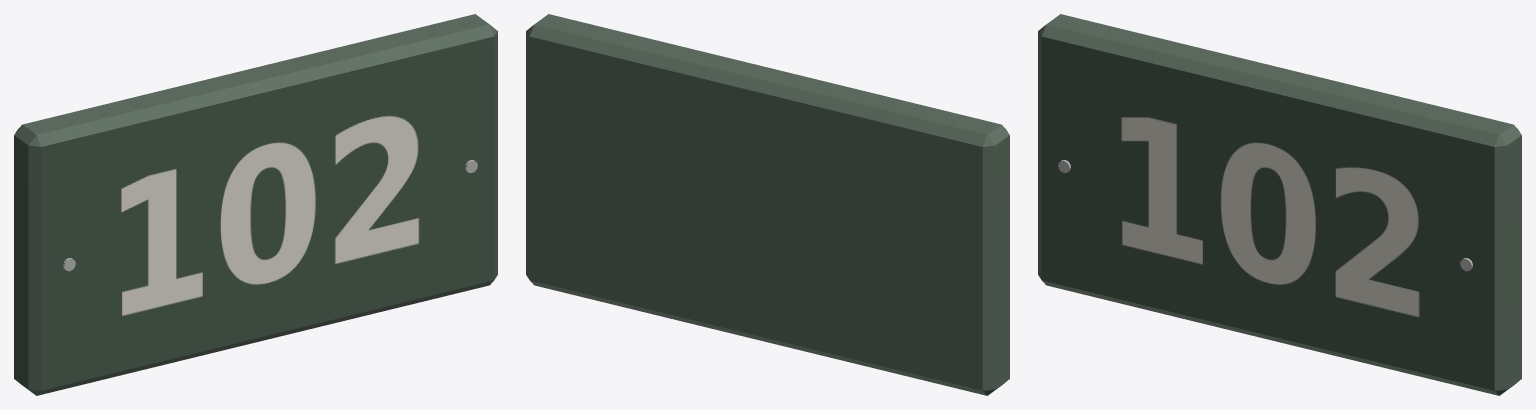
Rendered from room_number_102.glb.
3 views of the same model, side by side, from view 1: azimuth 30°, elevation 25°; view 2: azimuth 150°, elevation 25°; view 3: azimuth 330°, elevation 25° (orthographic).
Visible parts, largest first — view 1: INSTANCE__room_number_plaque__018; view 2: INSTANCE__room_number_plaque__018; view 3: INSTANCE__room_number_plaque__018.
Part boxes in pixels (x1,y1,x2,y2): INSTANCE__room_number_plaque__018: (14, 14, 497, 395); INSTANCE__room_number_plaque__018: (526, 14, 1009, 395); INSTANCE__room_number_plaque__018: (1038, 14, 1521, 395).
Size of the model in its own units: 0.32 by 0.17 by 0.0318.
3 materials, 2 textured.
